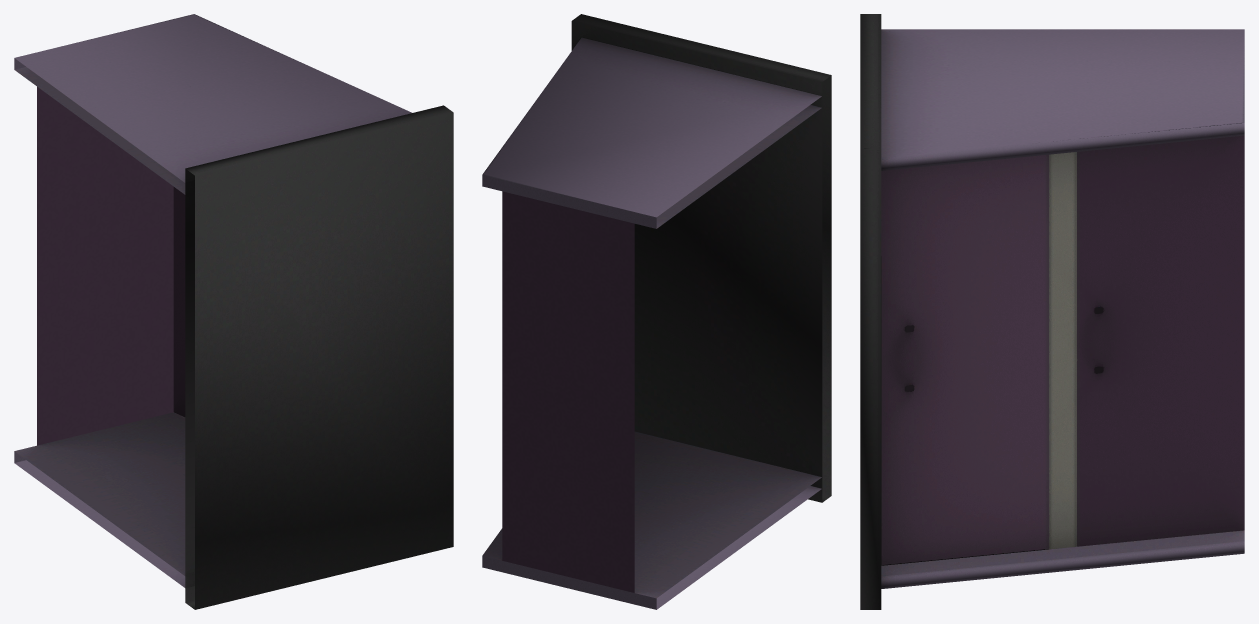
The model's file is nt_bedside_drawer_purple_LOD3.obj.
3 renders of one model, left to right at view 1: azimuth 30°, elevation 25°; view 2: azimuth 150°, elevation 25°; view 3: azimuth 270°, elevation 25°, orthographic. The views are drawn at different scales.
Visible parts, largest first — view 1: mtl_nt_bedside_drawer_purple; view 2: mtl_nt_bedside_drawer_purple; view 3: mtl_nt_bedside_drawer_purple.
Boxes of the visible parts, <box> form: mtl_nt_bedside_drawer_purple: <box>14,14,453,609</box>; mtl_nt_bedside_drawer_purple: <box>482,14,831,609</box>; mtl_nt_bedside_drawer_purple: <box>860,14,1244,609</box>.
Bounding box in the file's own units: 57.69 × 92.56 × 69.85.
